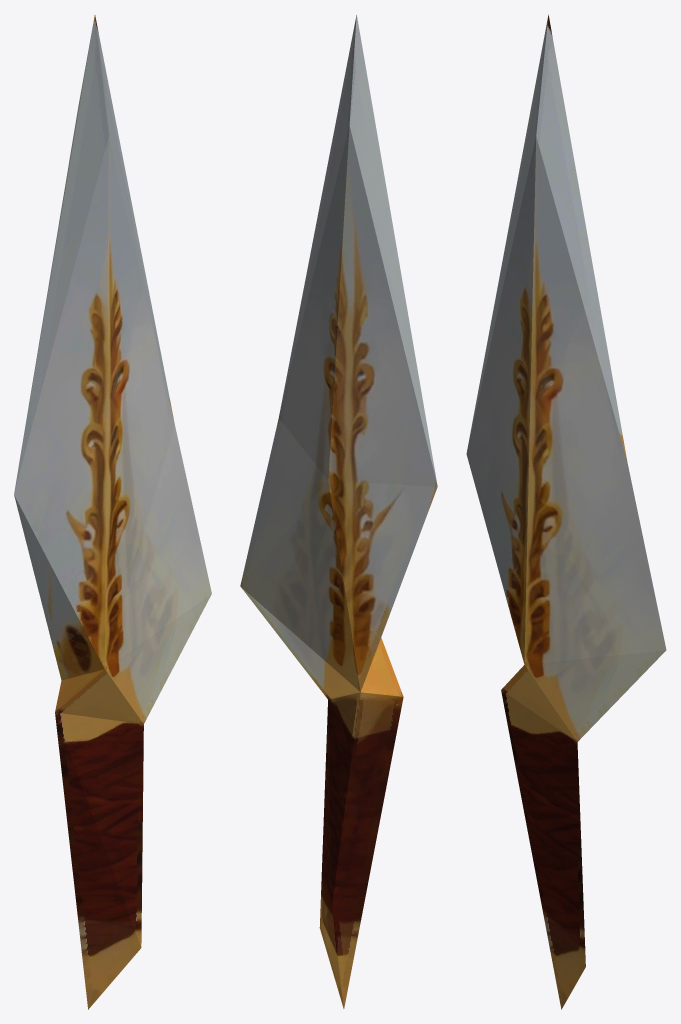
Rendered from ornate_spear_1.glb.
The picture shows the model from 3 angles, left to right: view 1: azimuth 30°, elevation 25°; view 2: azimuth 150°, elevation 25°; view 3: azimuth 330°, elevation 25°; orthographic projection.
Size of the model in its own units: 0.3888 by 1.87 by 0.1076.
1 material, 1 textured.
